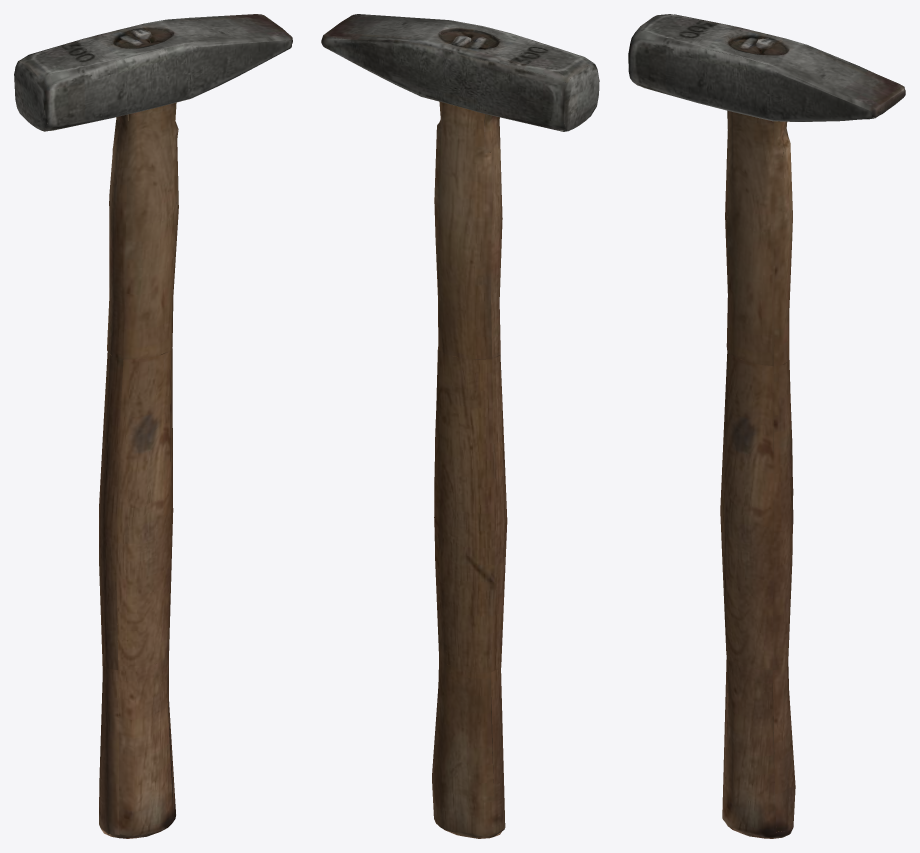
The model's file is smith_hammer.glb.
3 renders of one model, left to right at view 1: azimuth 30°, elevation 25°; view 2: azimuth 150°, elevation 25°; view 3: azimuth 330°, elevation 25°, orthographic.
Visible parts, largest first — view 1: cross_pein_hammer; view 2: cross_pein_hammer; view 3: cross_pein_hammer.
Boxes of the visible parts, bbox=[...] form: cross_pein_hammer: bbox=[14, 14, 292, 838]; cross_pein_hammer: bbox=[321, 14, 599, 838]; cross_pein_hammer: bbox=[628, 14, 905, 838].
Bounding box in the file's own units: 0.099 × 0.3001 × 0.024.
Materials: 1 (1 with a texture image).
